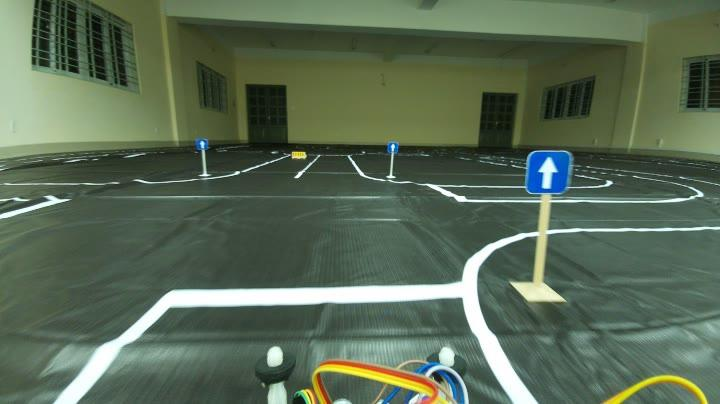onewayroad: (522, 146, 576, 200), (192, 137, 210, 149), (386, 139, 398, 155)
roadblock: (288, 152, 309, 160)
